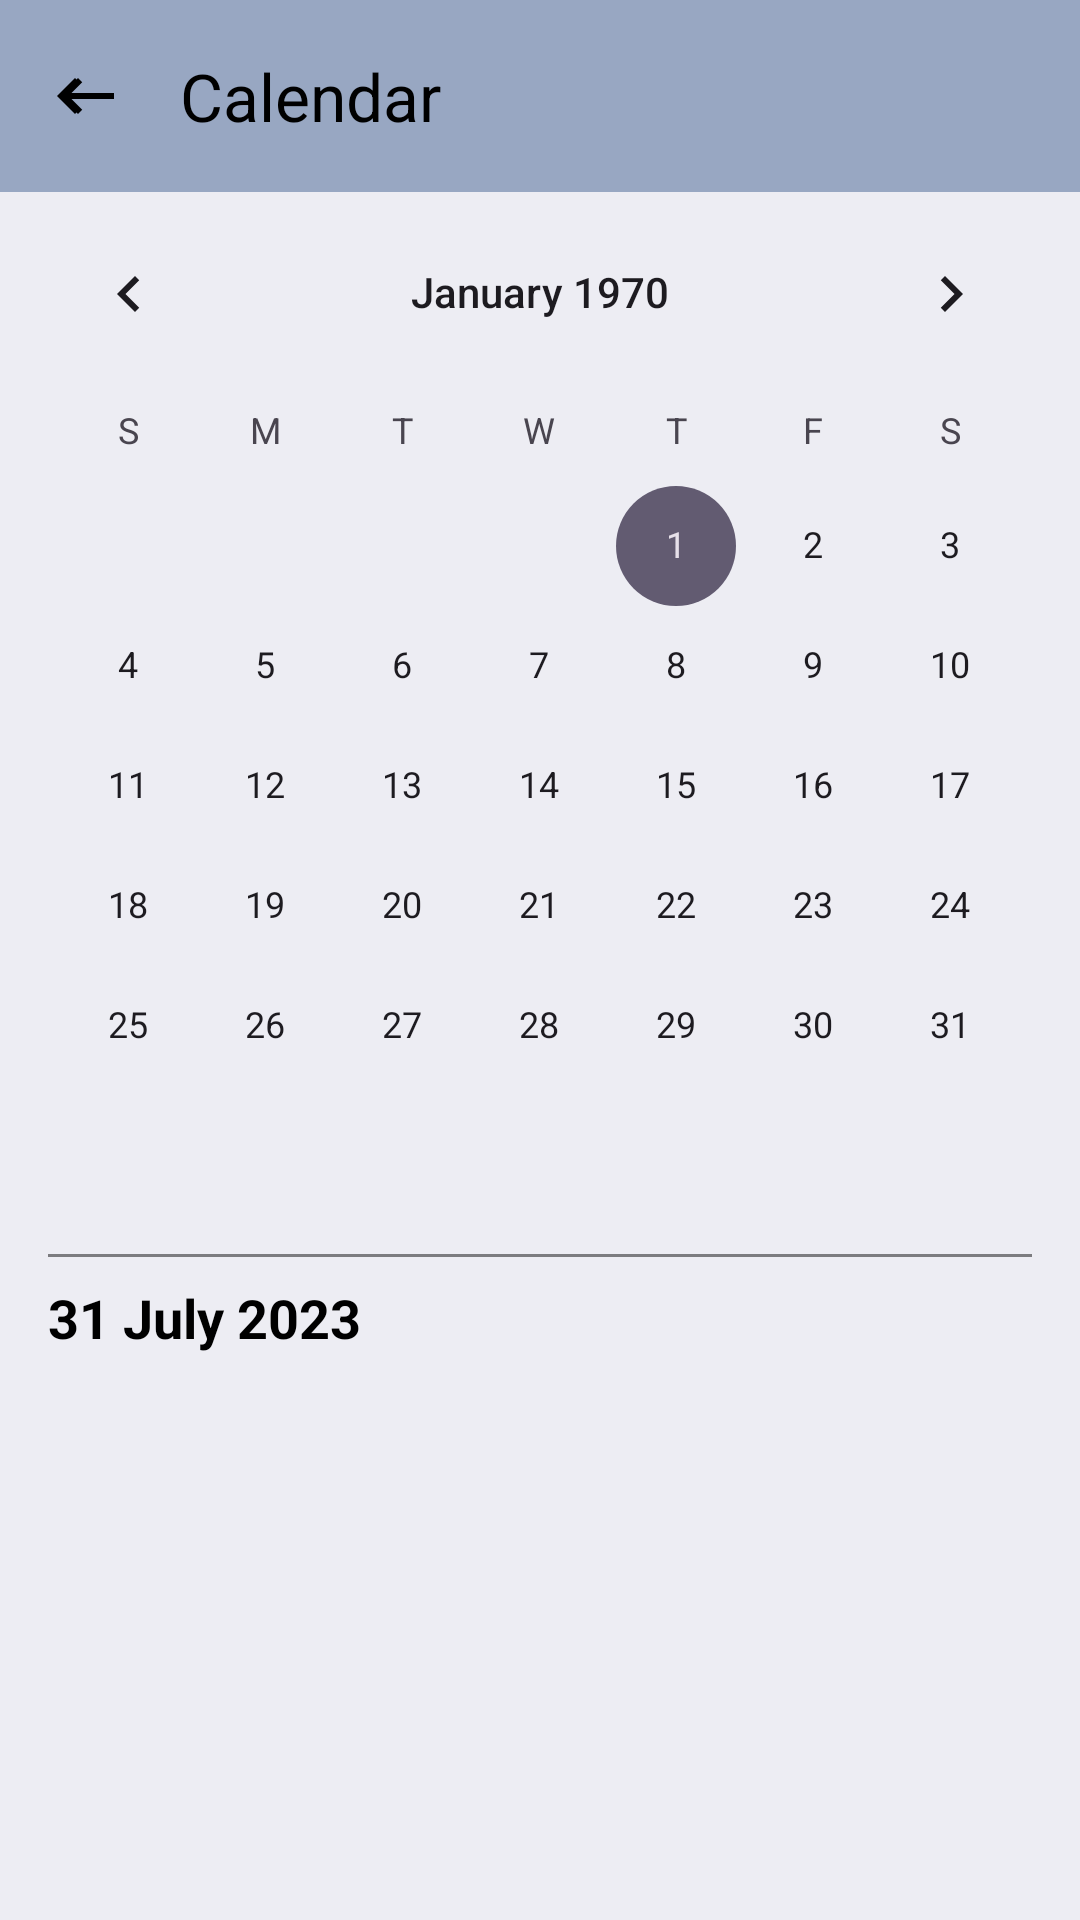

Icons on this 1080w x 1920h Android screen, each with its box as (x1,y1,x2,y2):
back: (57,78,114,114)
